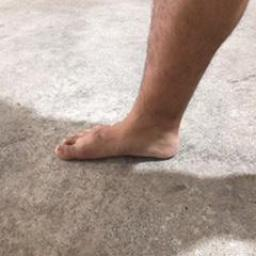Medial View -Right Foot-: (48, 86, 199, 166)
